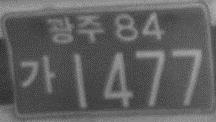1: (70, 51, 88, 111)
4: (102, 51, 134, 109), (141, 10, 167, 41)
7: (133, 48, 167, 107), (171, 48, 204, 107)
8: (113, 11, 140, 43)
가: (20, 55, 56, 95)
광주_O: (45, 14, 106, 45)
